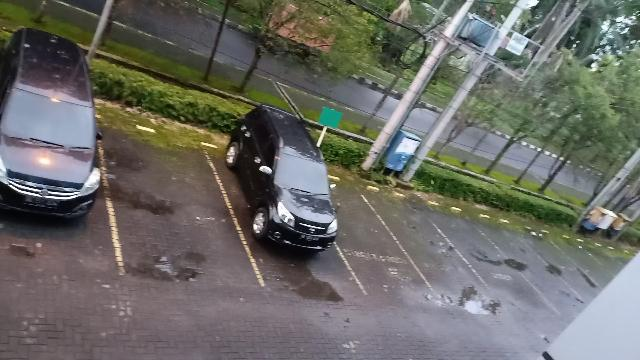empty: (104, 113, 233, 273), (339, 176, 403, 296), (404, 193, 458, 297)
occupied: (0, 80, 116, 266), (228, 128, 342, 286)
